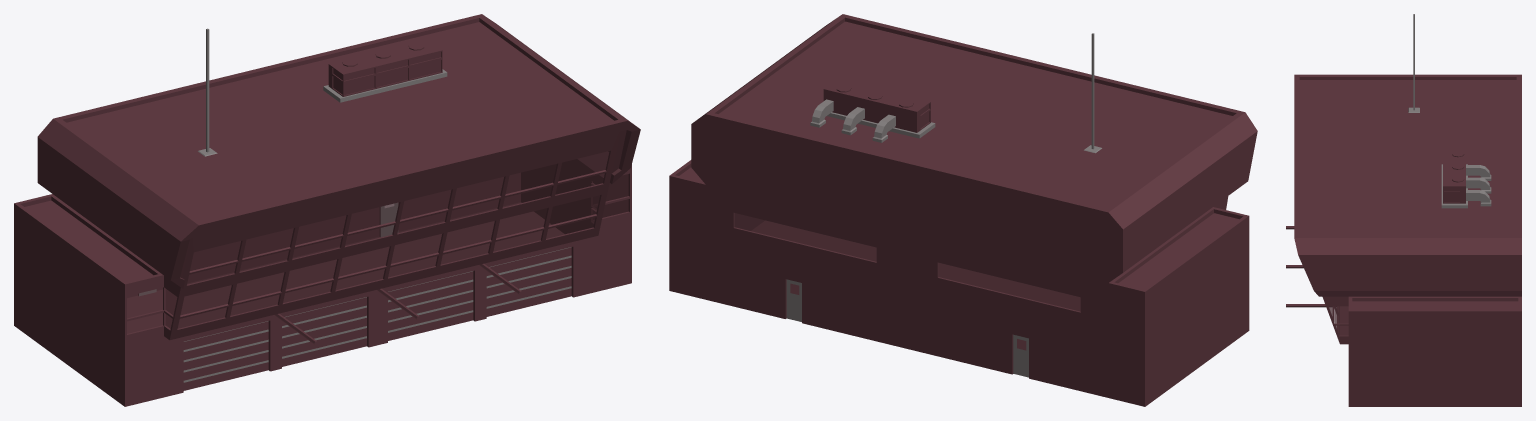
Rendered from building-race-track.fbx.
3 renders of one model, left to right at view 1: azimuth 30°, elevation 25°; view 2: azimuth 150°, elevation 25°; view 3: azimuth 270°, elevation 25°, orthographic. The views are drawn at different scales.
Visible parts, largest first — view 1: building-race-track; view 2: building-race-track; view 3: building-race-track.
Boxes of the visible parts, <box> form: building-race-track: <box>14,14,640,406</box>; building-race-track: <box>669,14,1257,406</box>; building-race-track: <box>1286,14,1521,406</box>.
Bounding box in the file's own units: 25.98 × 15.51 × 13.41.
